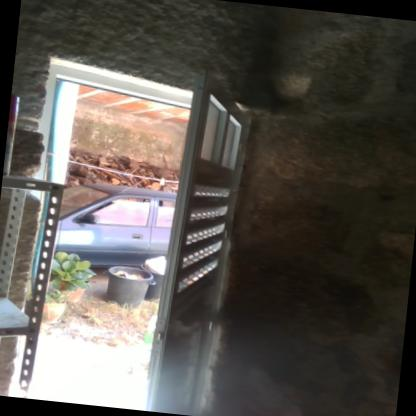semi: (5, 34, 270, 415)
